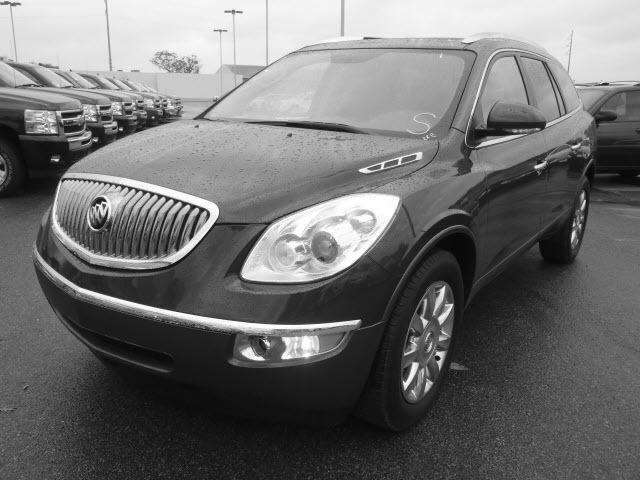car: (31, 36, 601, 437)
